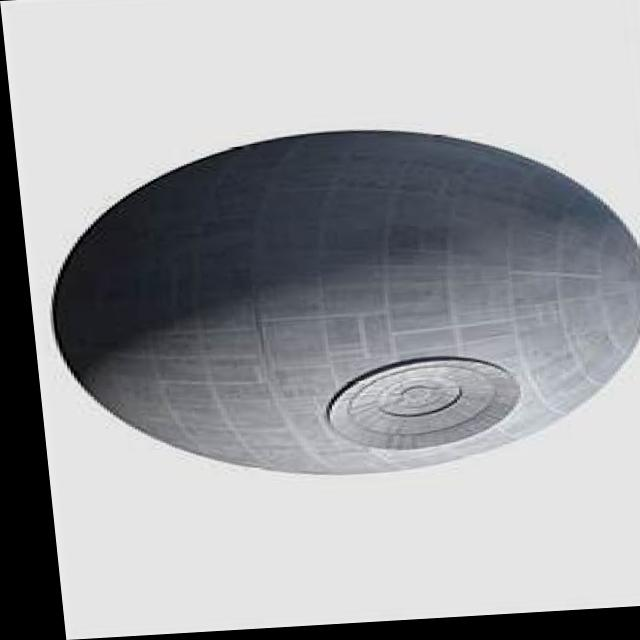deathStar: (32, 122, 640, 489)
